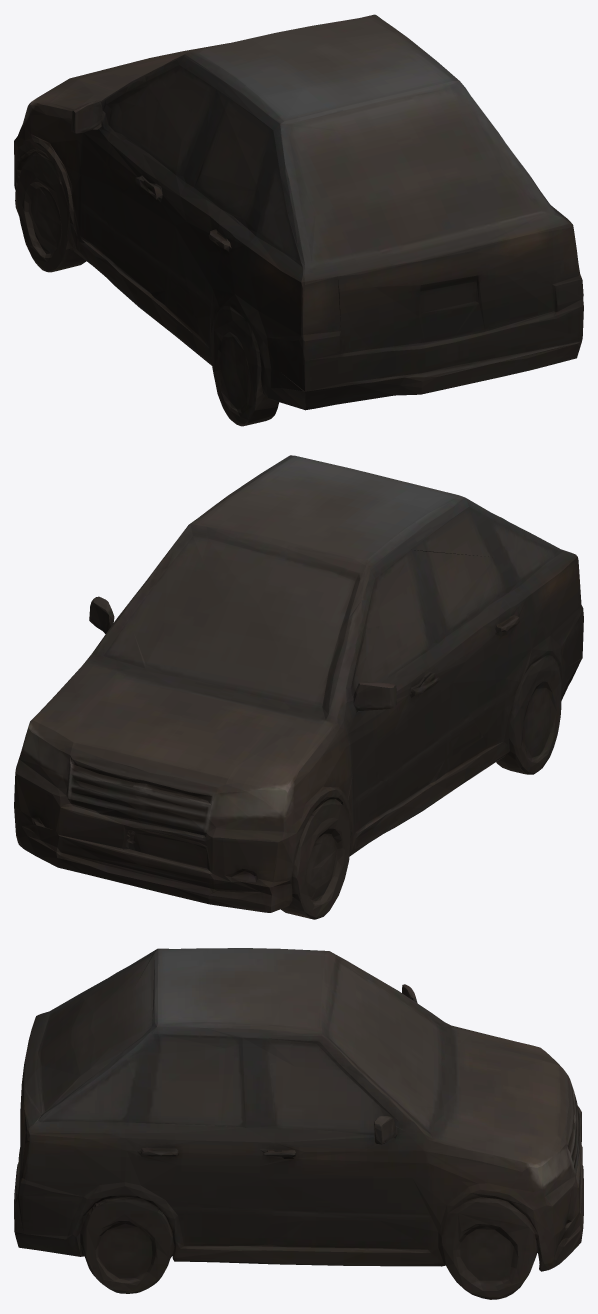
Rendered from car_sedan_dark.glb.
3 renders of one model, top to bottom at view 1: azimuth 30°, elevation 25°; view 2: azimuth 150°, elevation 25°; view 3: azimuth 270°, elevation 25°, orthographic. The views are drawn at different scales.
Visible parts, largest first — view 1: geometry_0; view 2: geometry_0; view 3: geometry_0.
Boxes of the visible parts, x1,y1,x2,y2 form: geometry_0: [14, 14, 583, 426]; geometry_0: [14, 455, 583, 919]; geometry_0: [14, 948, 583, 1299].
Size of the model in its own units: 0.58 by 0.4836 by 0.9921.
1 material, 1 textured.
